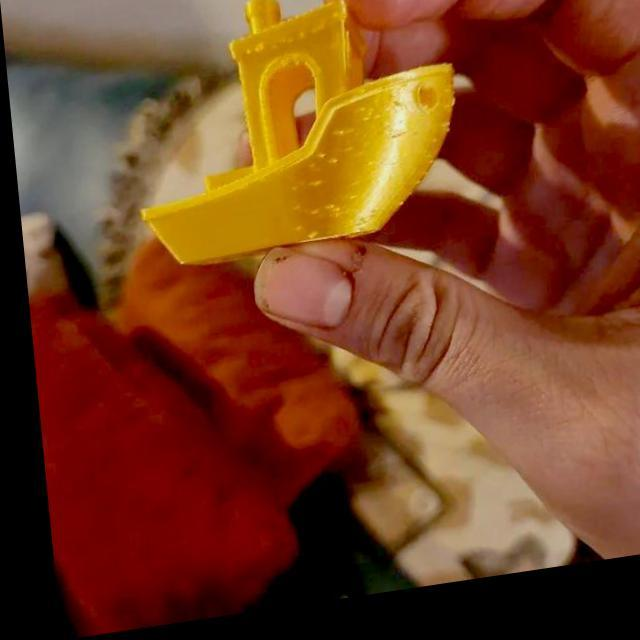zits: (284, 209, 298, 224), (300, 168, 315, 182), (301, 187, 318, 199), (437, 133, 450, 148), (352, 112, 365, 126), (324, 165, 337, 178), (318, 209, 331, 222), (333, 136, 347, 148), (302, 216, 315, 226), (300, 238, 313, 248), (312, 159, 323, 170), (288, 230, 298, 240)
